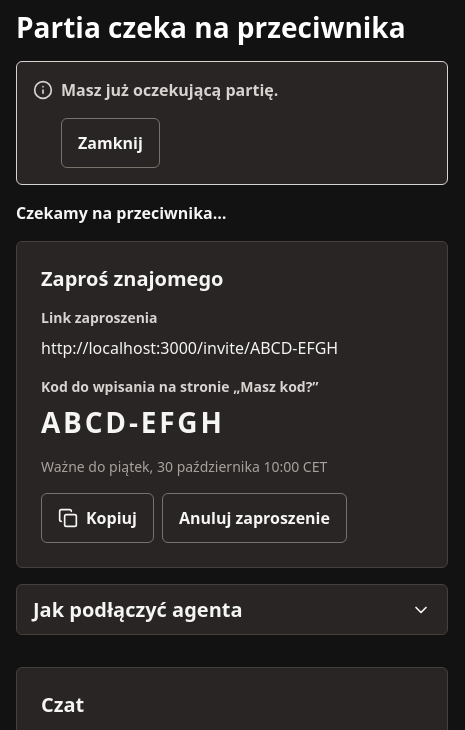
Scenario: GameRoom, waiting (p03) › says so when the player pressed create while already waiting here (L01) and lets them close it
Expected: the text "Masz już oczekującą partię." is shown, top-left (61, 78), bottom-right (278, 102)
Click the button "Zamknij" at (110, 143), box top-left (61, 118), bottom-right (160, 168)
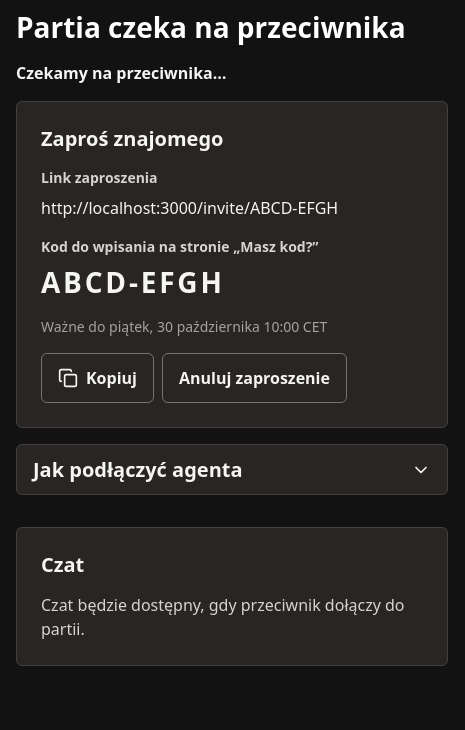
Result: the text "Masz już oczekującą partię." is gone
